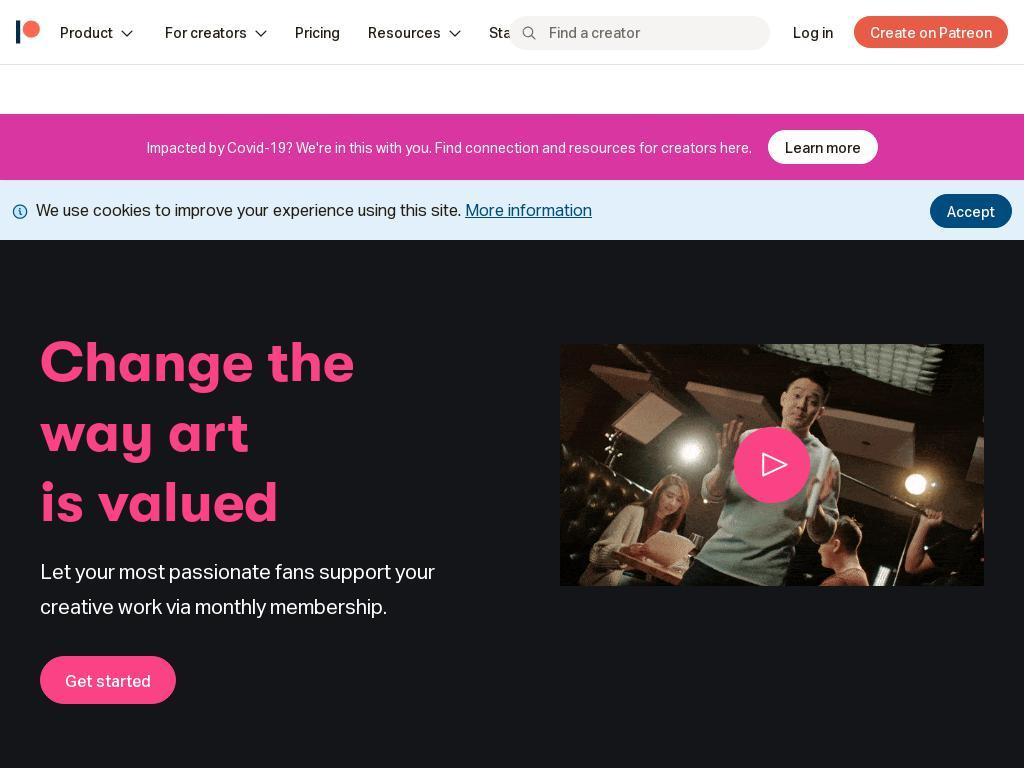button: (560, 344, 984, 587), (854, 0, 1008, 64), (40, 656, 176, 704), (155, 17, 289, 47), (767, 130, 878, 164), (358, 17, 483, 47), (465, 198, 592, 222), (56, 17, 155, 47), (930, 194, 1012, 228), (0, 0, 109, 21), (16, 4, 56, 60), (489, 21, 562, 43), (295, 21, 340, 43), (793, 21, 833, 43)
field: (537, 23, 758, 42)
heading: (40, 328, 464, 538)
image: (733, 426, 811, 504), (16, 20, 40, 44), (521, 24, 537, 41), (12, 203, 28, 219), (121, 27, 133, 40), (255, 27, 267, 40), (449, 27, 461, 40)
text: (40, 558, 435, 619), (146, 136, 752, 158), (36, 199, 461, 220), (854, 16, 1008, 48), (65, 669, 151, 691), (165, 24, 247, 41), (784, 138, 861, 156), (368, 24, 441, 41), (60, 24, 113, 41), (947, 202, 995, 220)
